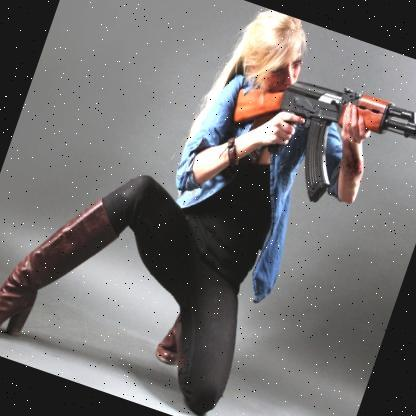rifle: (212, 48, 416, 238)
